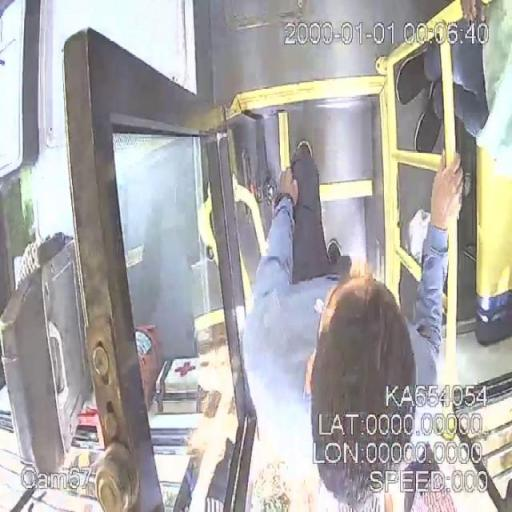persona: (240, 142, 464, 508), (397, 18, 512, 157)
